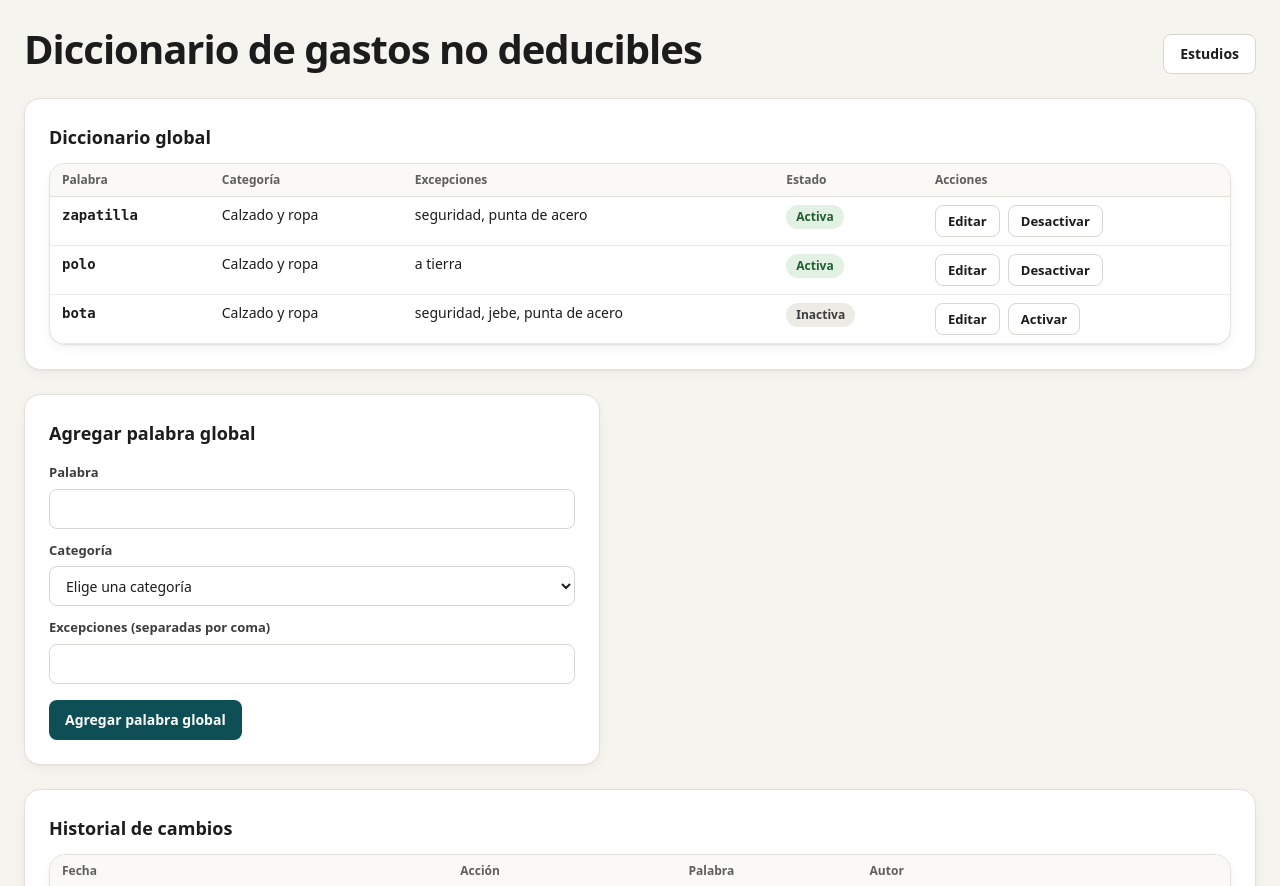
Scenario: /admin/diccionario · agregar › feliz: POST con el cuerpo completo, CSRF de la sesión y sin X-Estudio; 201 → «Palabra global agregada.» y recarga lista e historial
Type "lonchera" into the field labelled "Palabra". click: (312, 508)
box: [49,488,575,528]
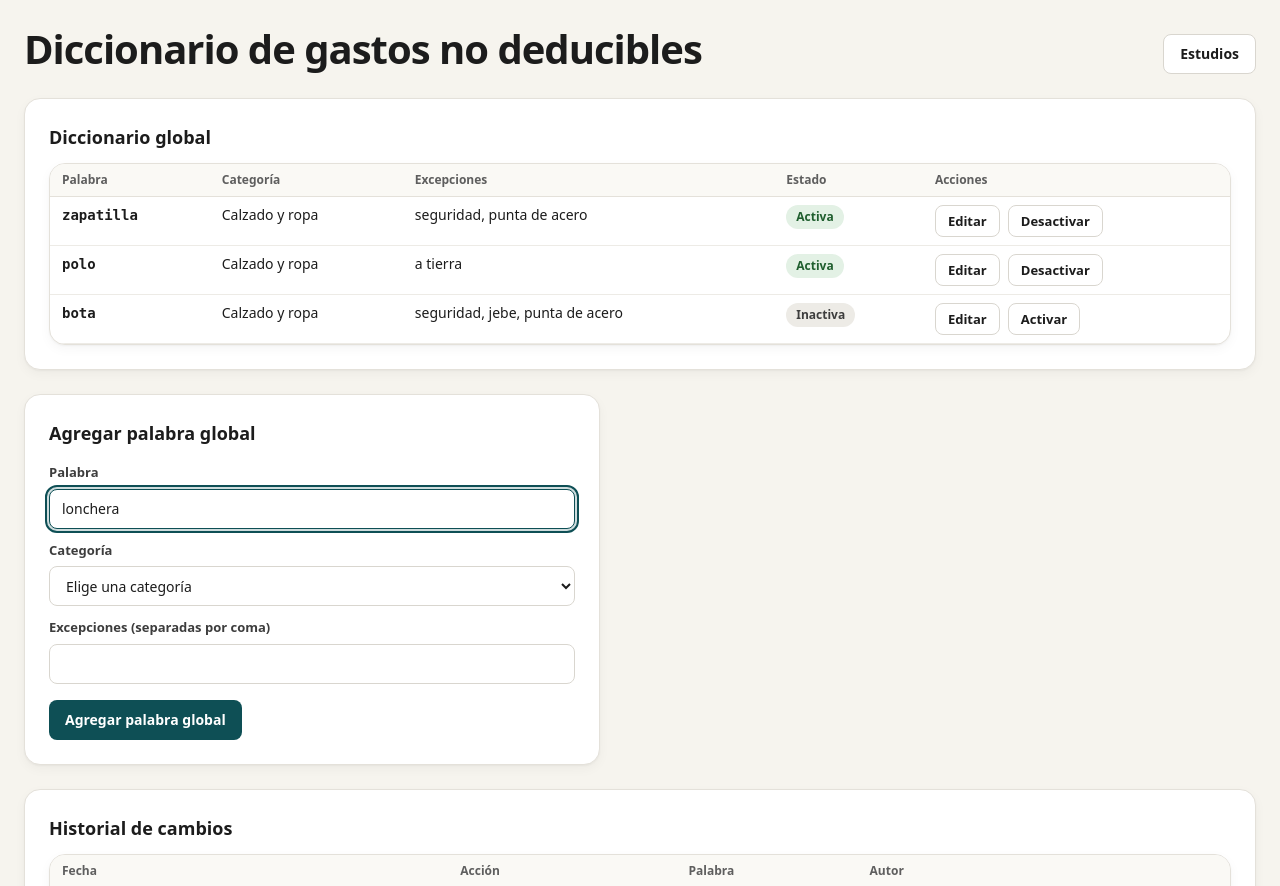
Select "Útiles escolares" in the dropdown labelled "Categoría". click: (312, 586)
box: [49,566,575,606]
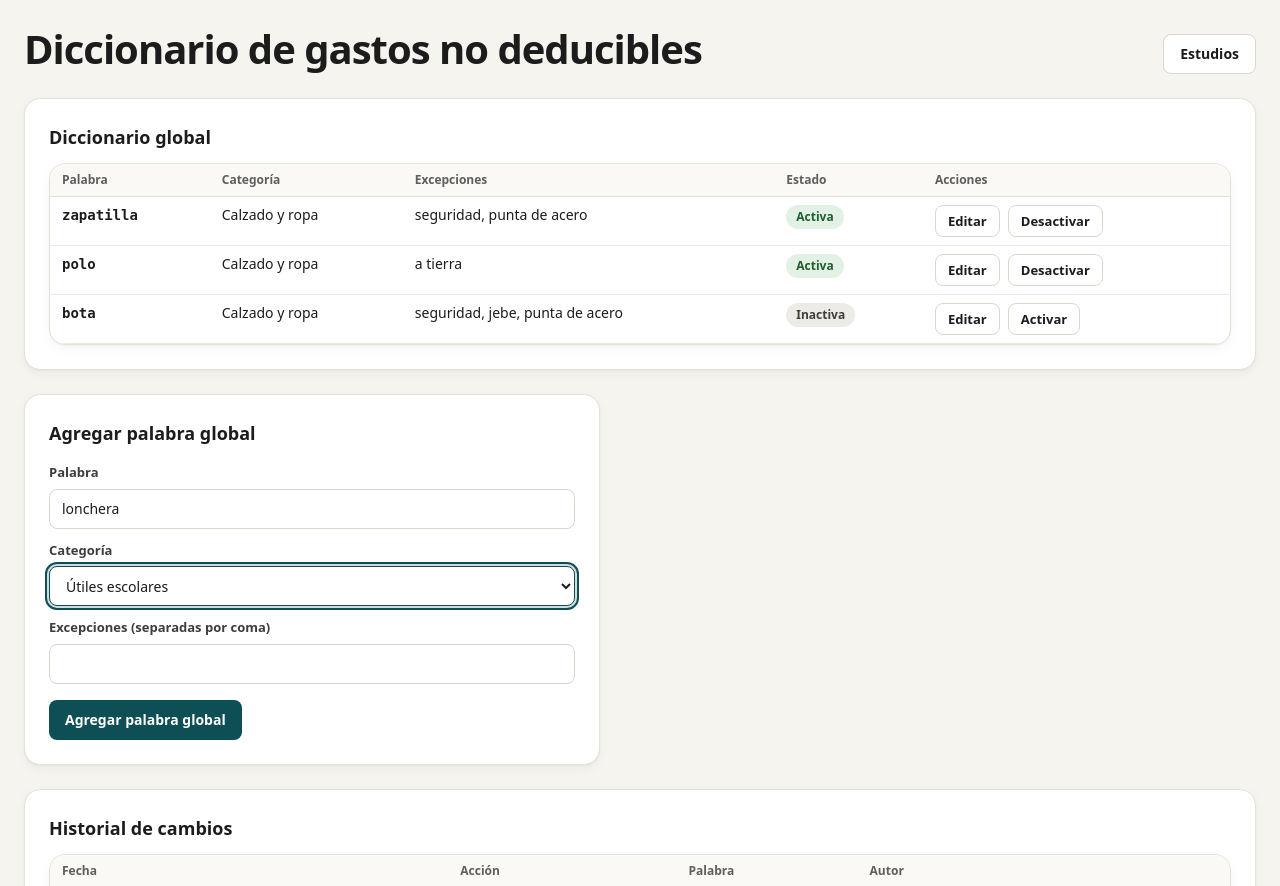
Type "termica, de campo" into the field labelled "Excepciones (separadas por coma)". click: (312, 664)
box: [49,644,575,684]
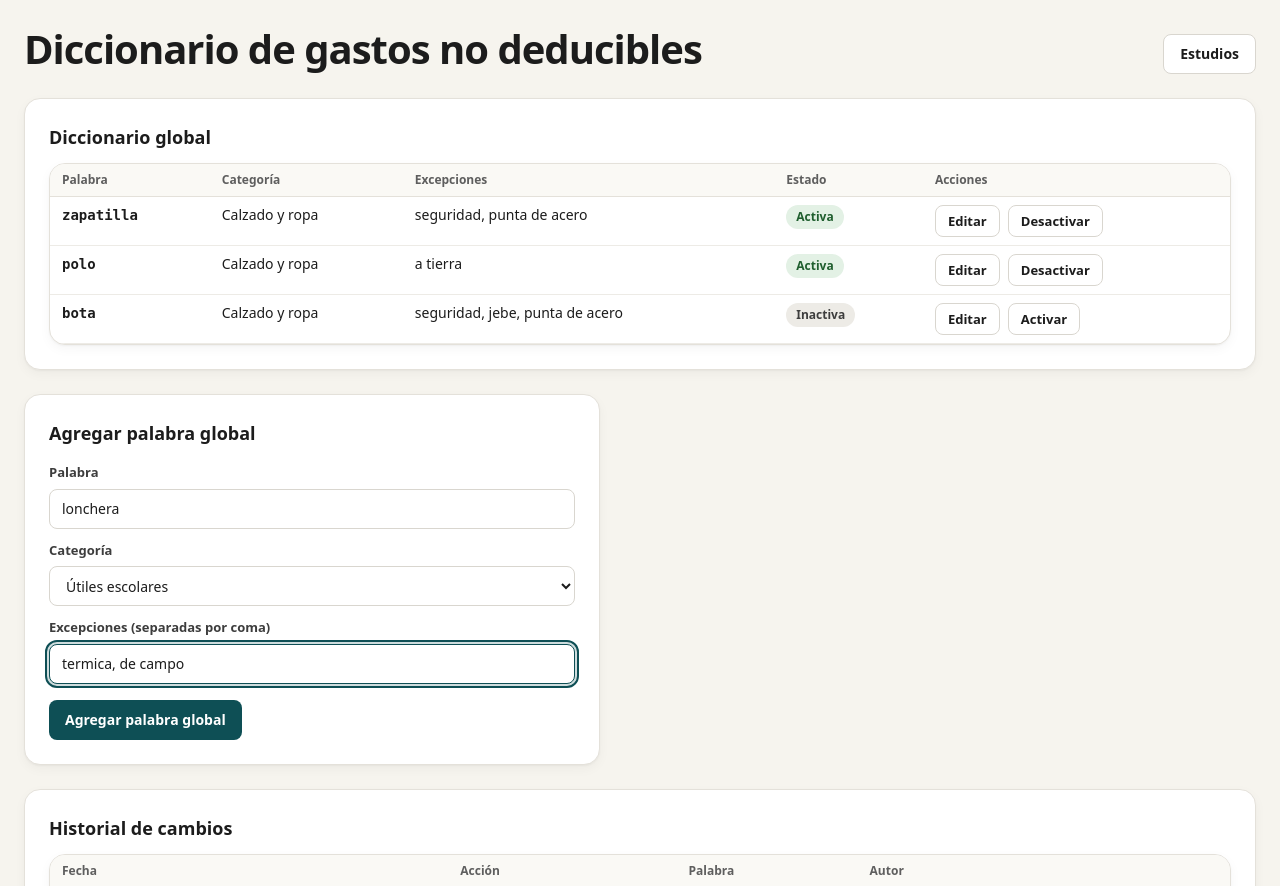
Click the button "Agregar palabra global". click: (145, 720)
box: [49,700,242,740]
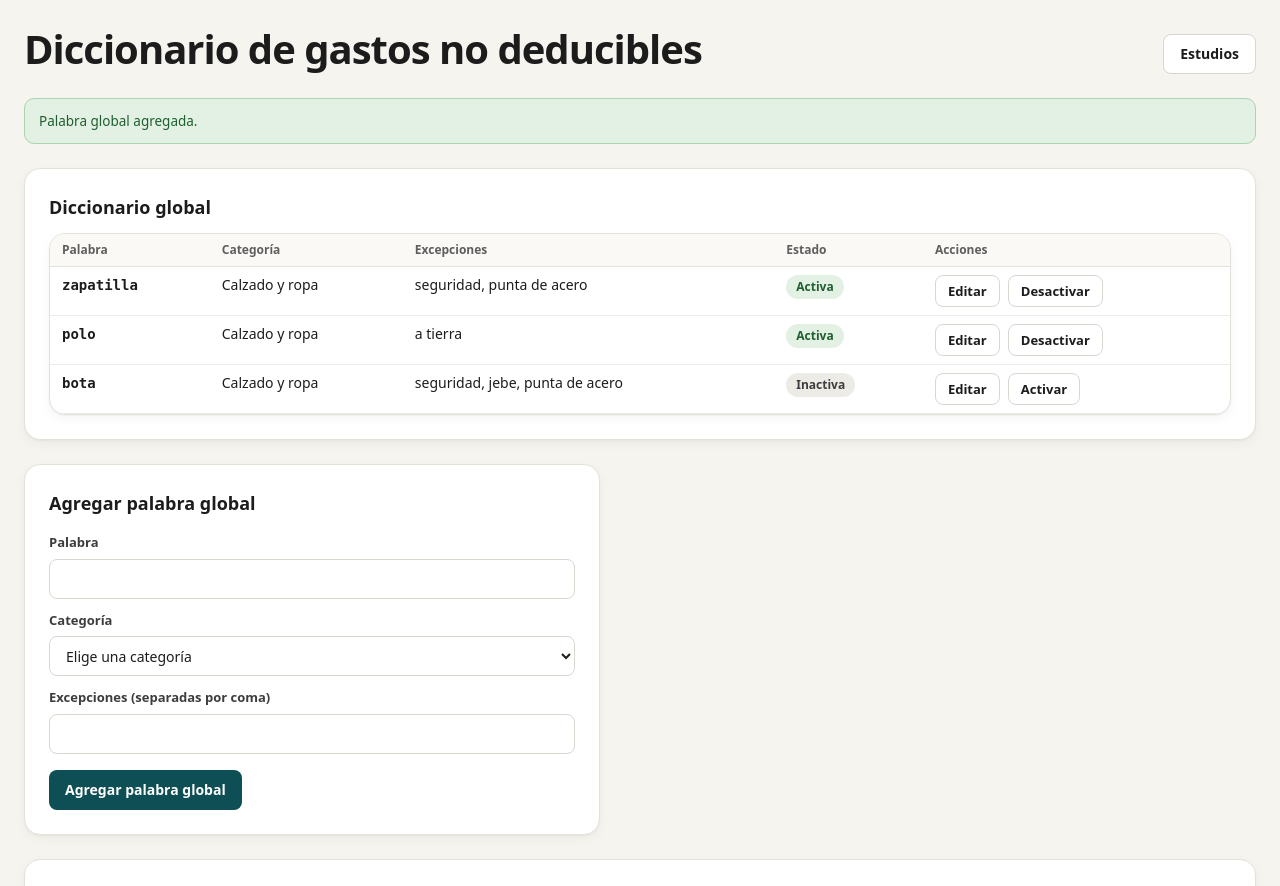
Result: the text "Palabra global agregada." is shown at [24,98,1256,144]
